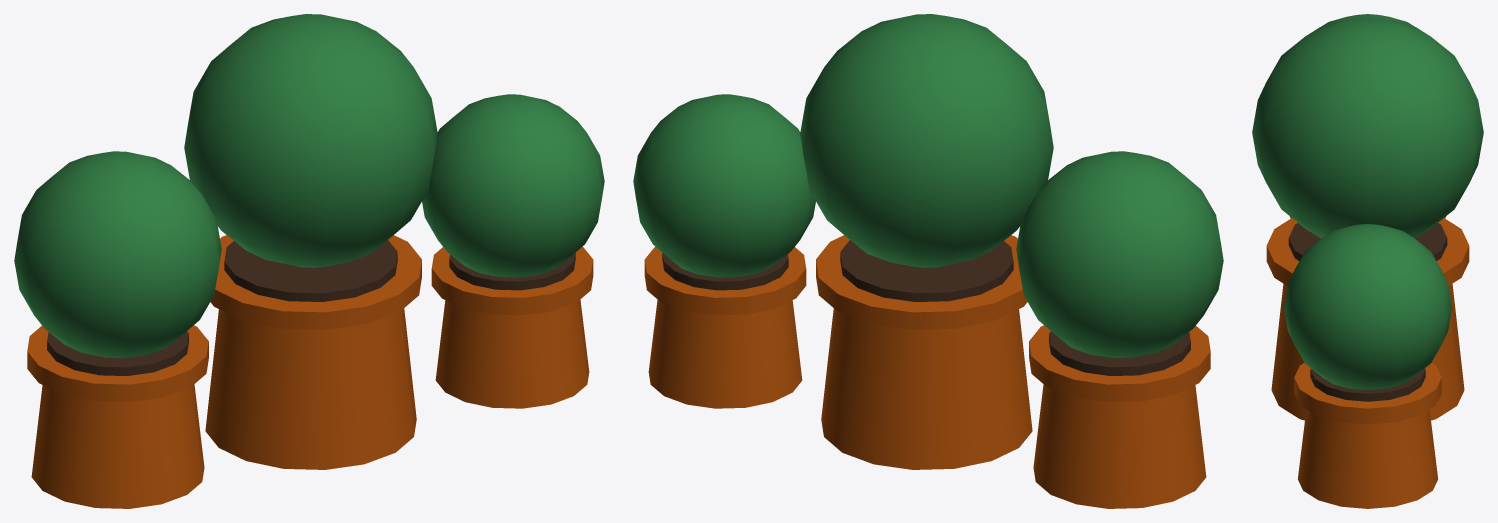
The picture shows the model from 3 angles, left to right: view 1: azimuth 30°, elevation 25°; view 2: azimuth 150°, elevation 25°; view 3: azimuth 270°, elevation 25°; orthographic projection. The views are drawn at different scales.
Visible parts, largest first — view 1: terrace-planter-set; view 2: terrace-planter-set; view 3: terrace-planter-set.
Part boxes in pixels (<box>): terrace-planter-set: <box>14,14,604,508</box>; terrace-planter-set: <box>633,14,1223,508</box>; terrace-planter-set: <box>1252,14,1483,508</box>.
Bounding box in the file's own units: 1.35 × 0.912 × 0.528.
